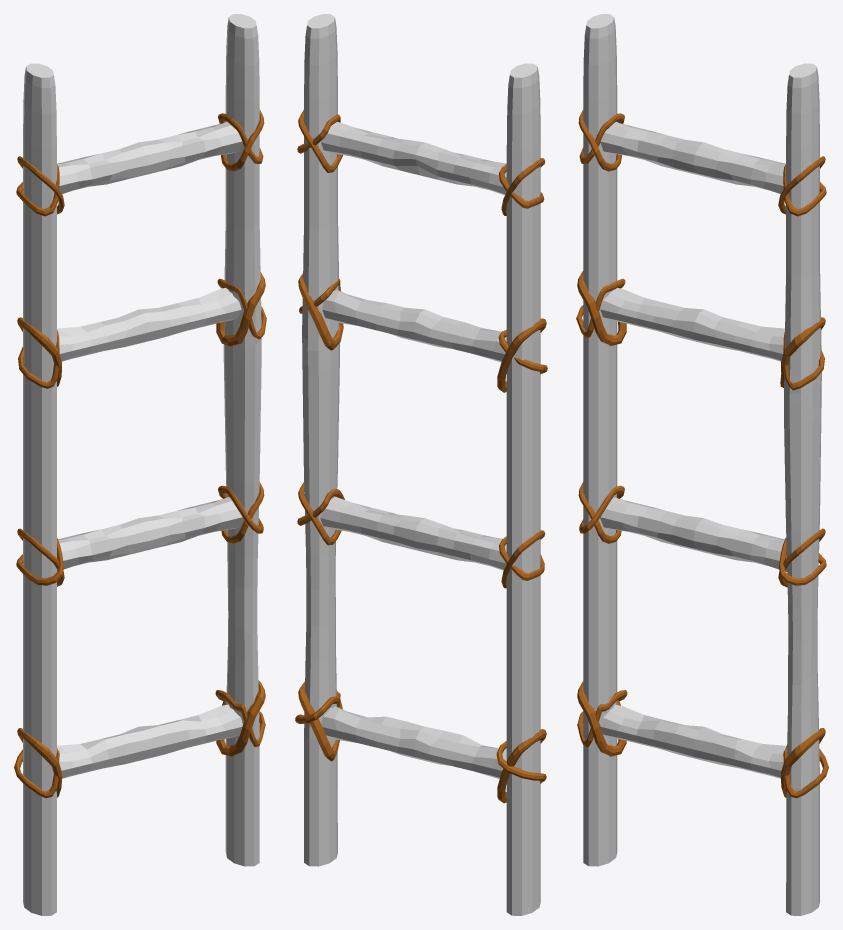
The model's file is ladder_2.fbx.
3 renders of one model, left to right at view 1: azimuth 30°, elevation 25°; view 2: azimuth 150°, elevation 25°; view 3: azimuth 330°, elevation 25°, orthographic.
Visible parts, largest first — view 1: Cylinder.003, BezierCircle.008, BezierCircle.003, BezierCircle.012, BezierCircle.016, BezierCircle.007, BezierCircle.015, BezierCircle.009, BezierCircle.001, BezierCircle.013; view 2: Cylinder.003, BezierCircle.003, BezierCircle.008, BezierCircle.012, BezierCircle.016, BezierCircle.001, BezierCircle.005, BezierCircle.009; view 3: Cylinder.003, BezierCircle.012, BezierCircle.016, BezierCircle.008, BezierCircle.003, BezierCircle.006, BezierCircle.007, BezierCircle.009, BezierCircle.013, BezierCircle.010.
Part boxes in pixels (bbox=[...]): Cylinder.003: bbox=[23, 14, 261, 915]; BezierCircle.008: bbox=[216, 680, 265, 756]; BezierCircle.003: bbox=[216, 272, 265, 346]; BezierCircle.012: bbox=[17, 317, 61, 386]; BezierCircle.016: bbox=[17, 728, 61, 797]; BezierCircle.007: bbox=[215, 690, 265, 746]; BezierCircle.015: bbox=[16, 538, 63, 585]; BezierCircle.009: bbox=[14, 748, 59, 798]; BezierCircle.001: bbox=[221, 110, 264, 171]; BezierCircle.013: bbox=[18, 330, 59, 388]; Cylinder.003: bbox=[302, 14, 540, 915]; BezierCircle.003: bbox=[298, 273, 343, 350]; BezierCircle.008: bbox=[298, 681, 342, 761]; BezierCircle.012: bbox=[497, 318, 546, 392]; BezierCircle.016: bbox=[497, 729, 546, 803]; BezierCircle.001: bbox=[298, 110, 342, 172]; BezierCircle.005: bbox=[298, 482, 341, 545]; BezierCircle.009: bbox=[496, 741, 546, 783]; Cylinder.003: bbox=[583, 14, 821, 915]; BezierCircle.012: bbox=[577, 271, 626, 345]; BezierCircle.016: bbox=[577, 681, 626, 756]; BezierCircle.008: bbox=[781, 728, 825, 798]; BezierCircle.003: bbox=[780, 317, 825, 387]; BezierCircle.006: bbox=[779, 537, 826, 585]; BezierCircle.007: bbox=[783, 744, 828, 798]; BezierCircle.009: bbox=[577, 690, 627, 746]; BezierCircle.013: bbox=[576, 278, 625, 337]; BezierCircle.010: bbox=[578, 110, 621, 171].
Size of the model in its own units: 356 by 1161 by 83.65.
